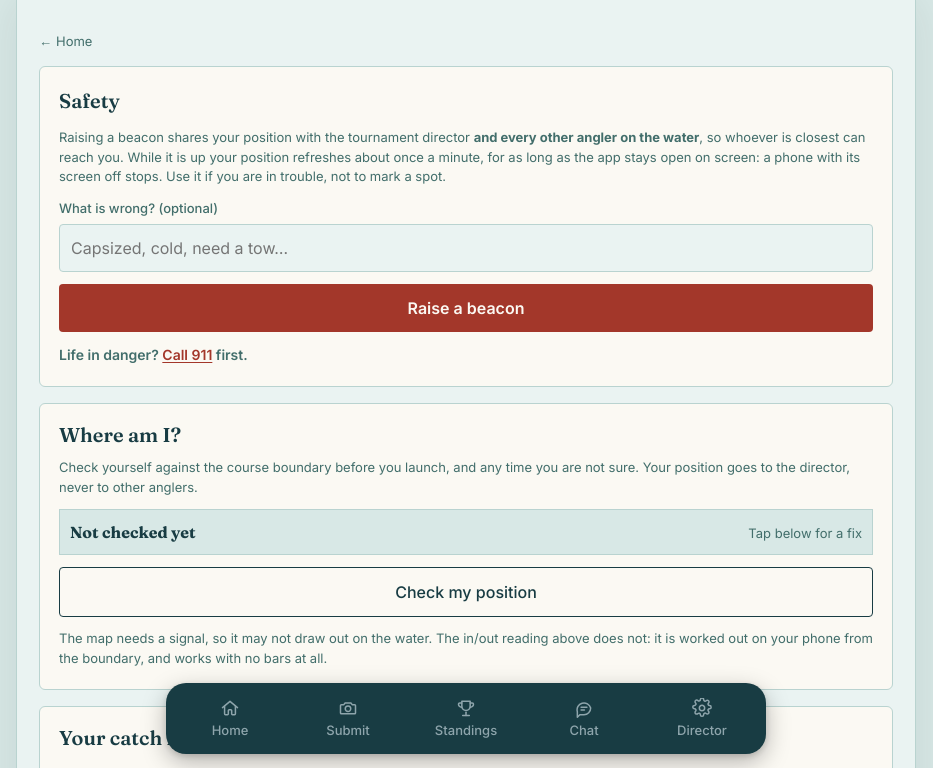
Test case: where am I › reads in or out on the phone, and tells the director
This screenshot has width=933, height=768.
Check: the text "Not checked yet" is shown, box [70,520,196,544]
Click the button "Check my position" at (466, 592), box [59,567,873,617]
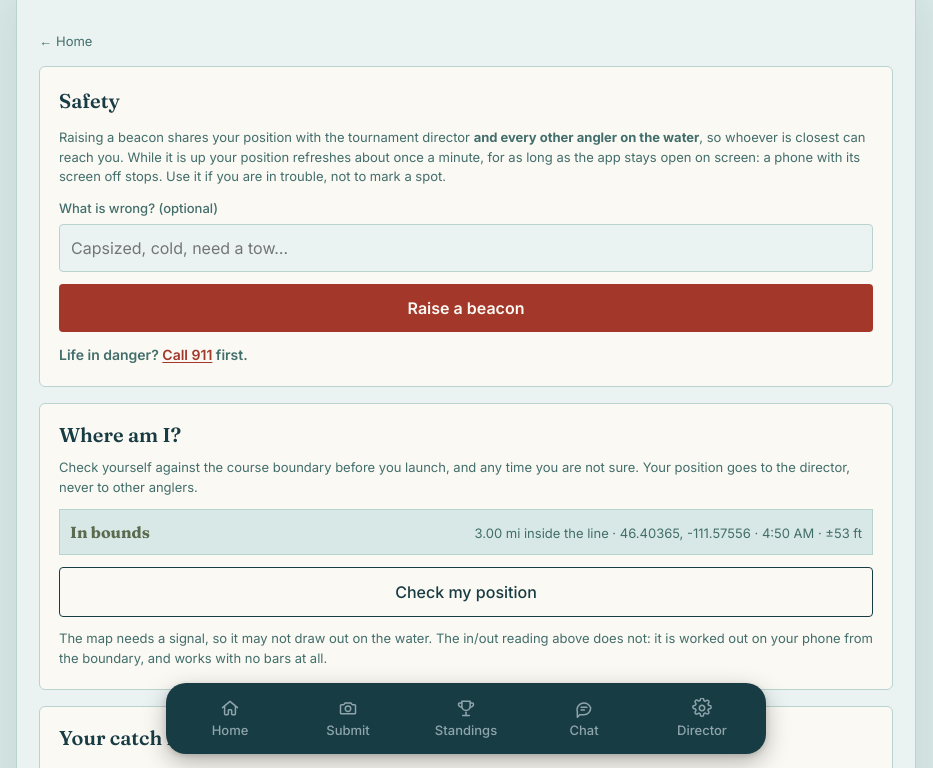
Check: the text "In bounds" is shown, box [70,520,150,544]
Check: the text "3.00 mi inside the line" is shown, box [474,525,862,541]
